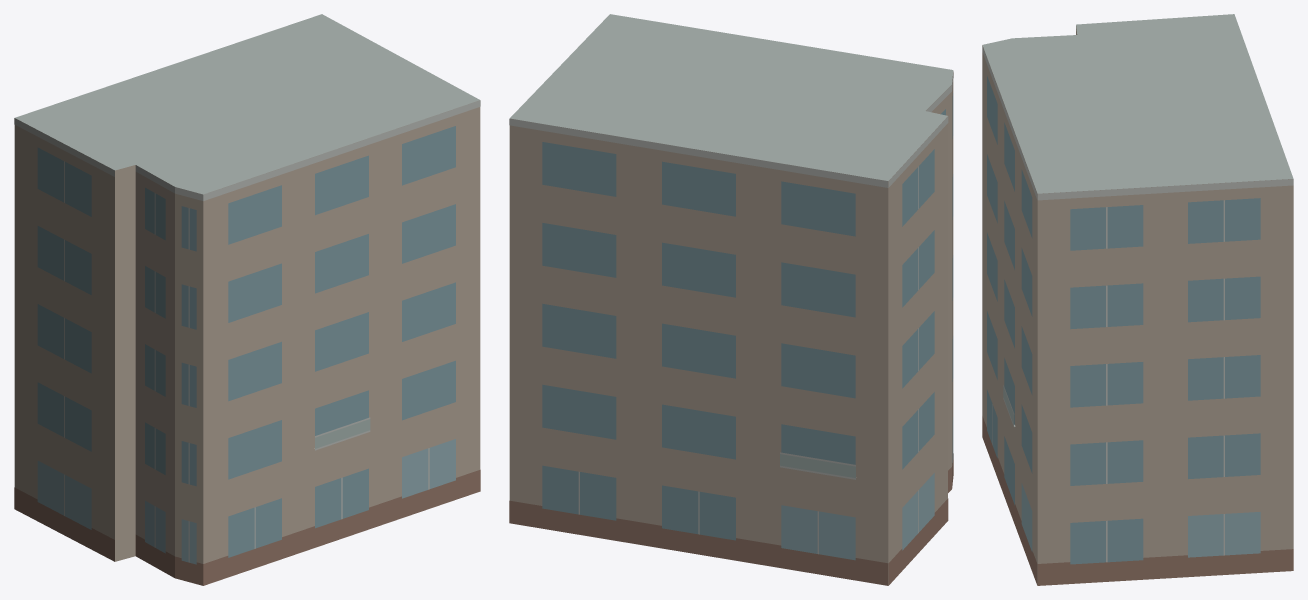
The model's file is survey-upis-32910874.glb.
3 views of the same model, side by side, from view 1: azimuth 30°, elevation 25°; view 2: azimuth 150°, elevation 25°; view 3: azimuth 270°, elevation 25° (orthographic). The views are drawn at different scales.
Visible parts, largest first — view 1: survey-upis-32910874.tmp; view 2: survey-upis-32910874.tmp; view 3: survey-upis-32910874.tmp.
Boxes of the visible parts, x1,y1,x2,y2 form: survey-upis-32910874.tmp: [14, 14, 480, 585]; survey-upis-32910874.tmp: [509, 14, 953, 585]; survey-upis-32910874.tmp: [982, 14, 1293, 585].
Size of the model in its own units: 14.07 by 14.3 by 10.3.
